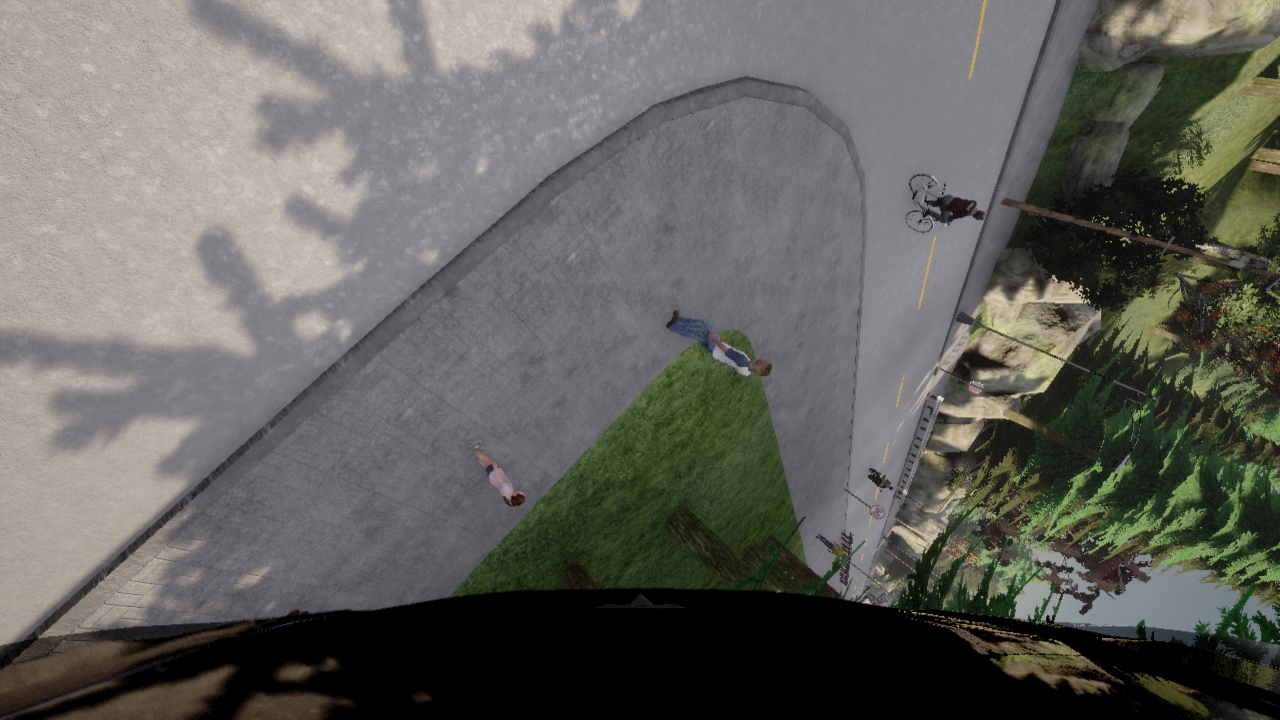cyclist: (0, 588, 1279, 719), (905, 174, 949, 232), (868, 468, 885, 491)
pedestrian: (666, 310, 771, 376), (468, 441, 524, 506), (816, 533, 846, 558), (287, 610, 308, 615)
